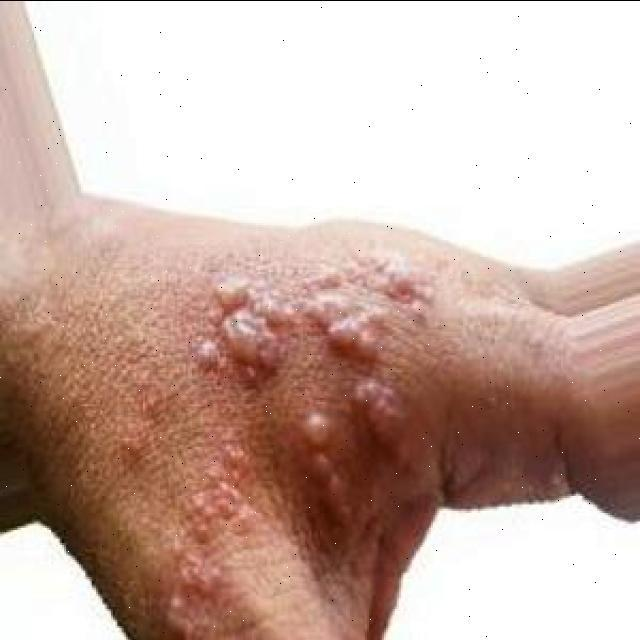Shingles: (186, 245, 441, 374), (166, 433, 255, 640), (293, 407, 358, 540), (349, 374, 424, 485)
